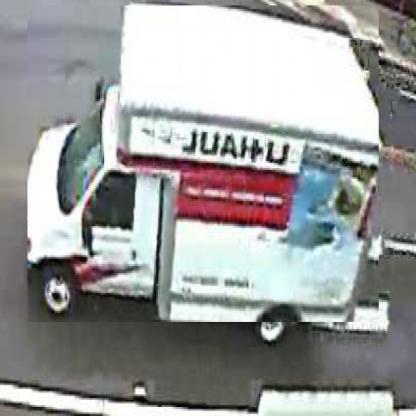truck: (28, 6, 380, 325)
